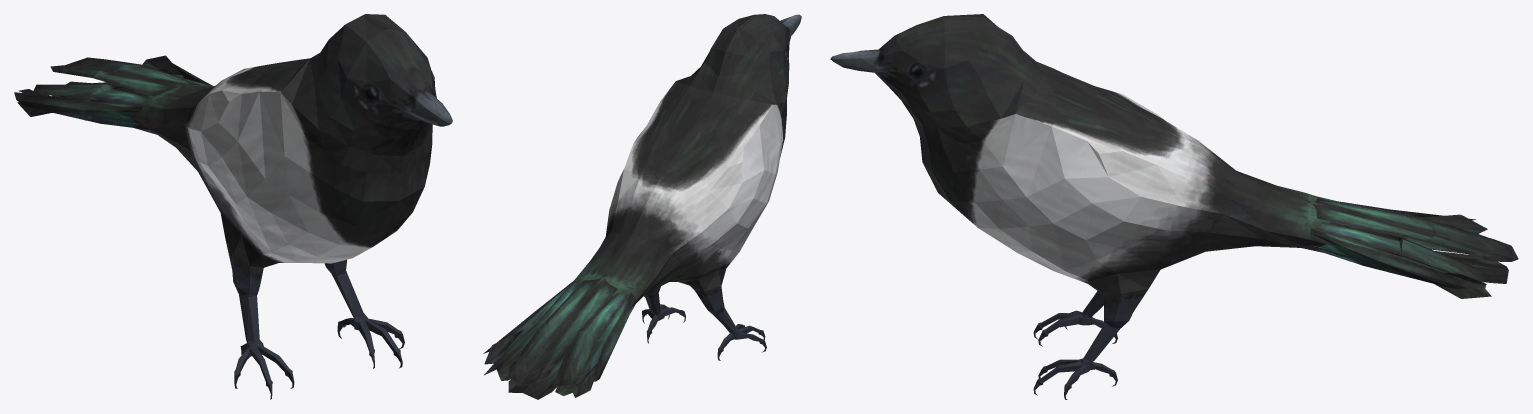
File: Cuerpo_Pajaro.obj
3 renders of one model, left to right at view 1: azimuth 30°, elevation 25°; view 2: azimuth 150°, elevation 25°; view 3: azimuth 270°, elevation 25°, orthographic. The views are drawn at different scales.
Parts seen in each view (by area): view 1: polySurface42polySurface38Mesh0; view 2: polySurface42polySurface38Mesh0; view 3: polySurface42polySurface38Mesh0.
Part boxes in pixels (x1,y1,x2,y2): polySurface42polySurface38Mesh0: (14,14,452,399); polySurface42polySurface38Mesh0: (483,14,801,399); polySurface42polySurface38Mesh0: (830,14,1518,399).
Size of the model in its own units: 0.0757 by 0.1674 by 0.2968.
1 material, 1 textured.
